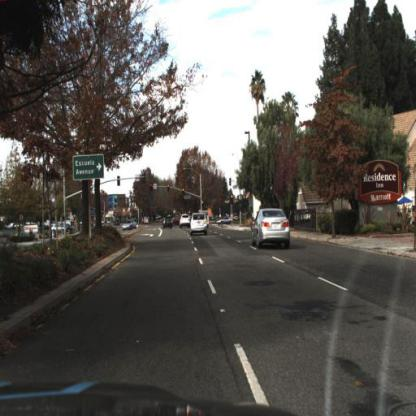car: (252, 206, 289, 249), (188, 209, 209, 238), (176, 210, 192, 233), (119, 218, 141, 232), (215, 213, 235, 225), (162, 214, 174, 231)
trafficLight: (198, 199, 204, 213)
trafficLight-Red: (165, 180, 171, 196), (229, 191, 234, 207), (181, 184, 187, 196)
trafficLight-RedLeft: (149, 178, 154, 192)
